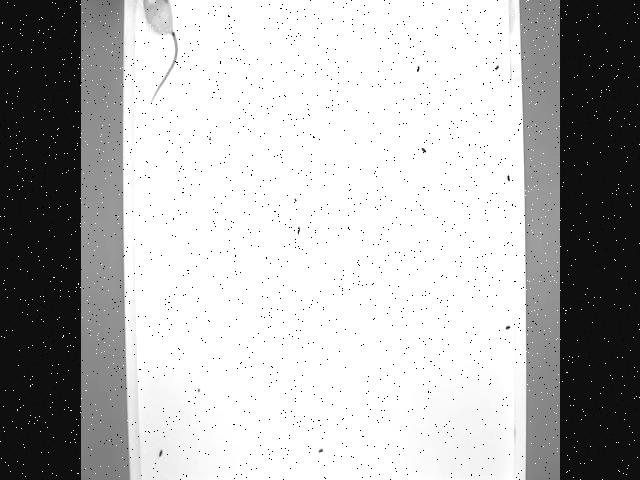Tikus: (138, 0, 182, 107)
